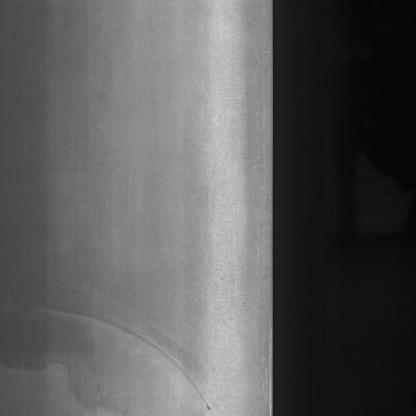crease: (22, 287, 217, 410)
